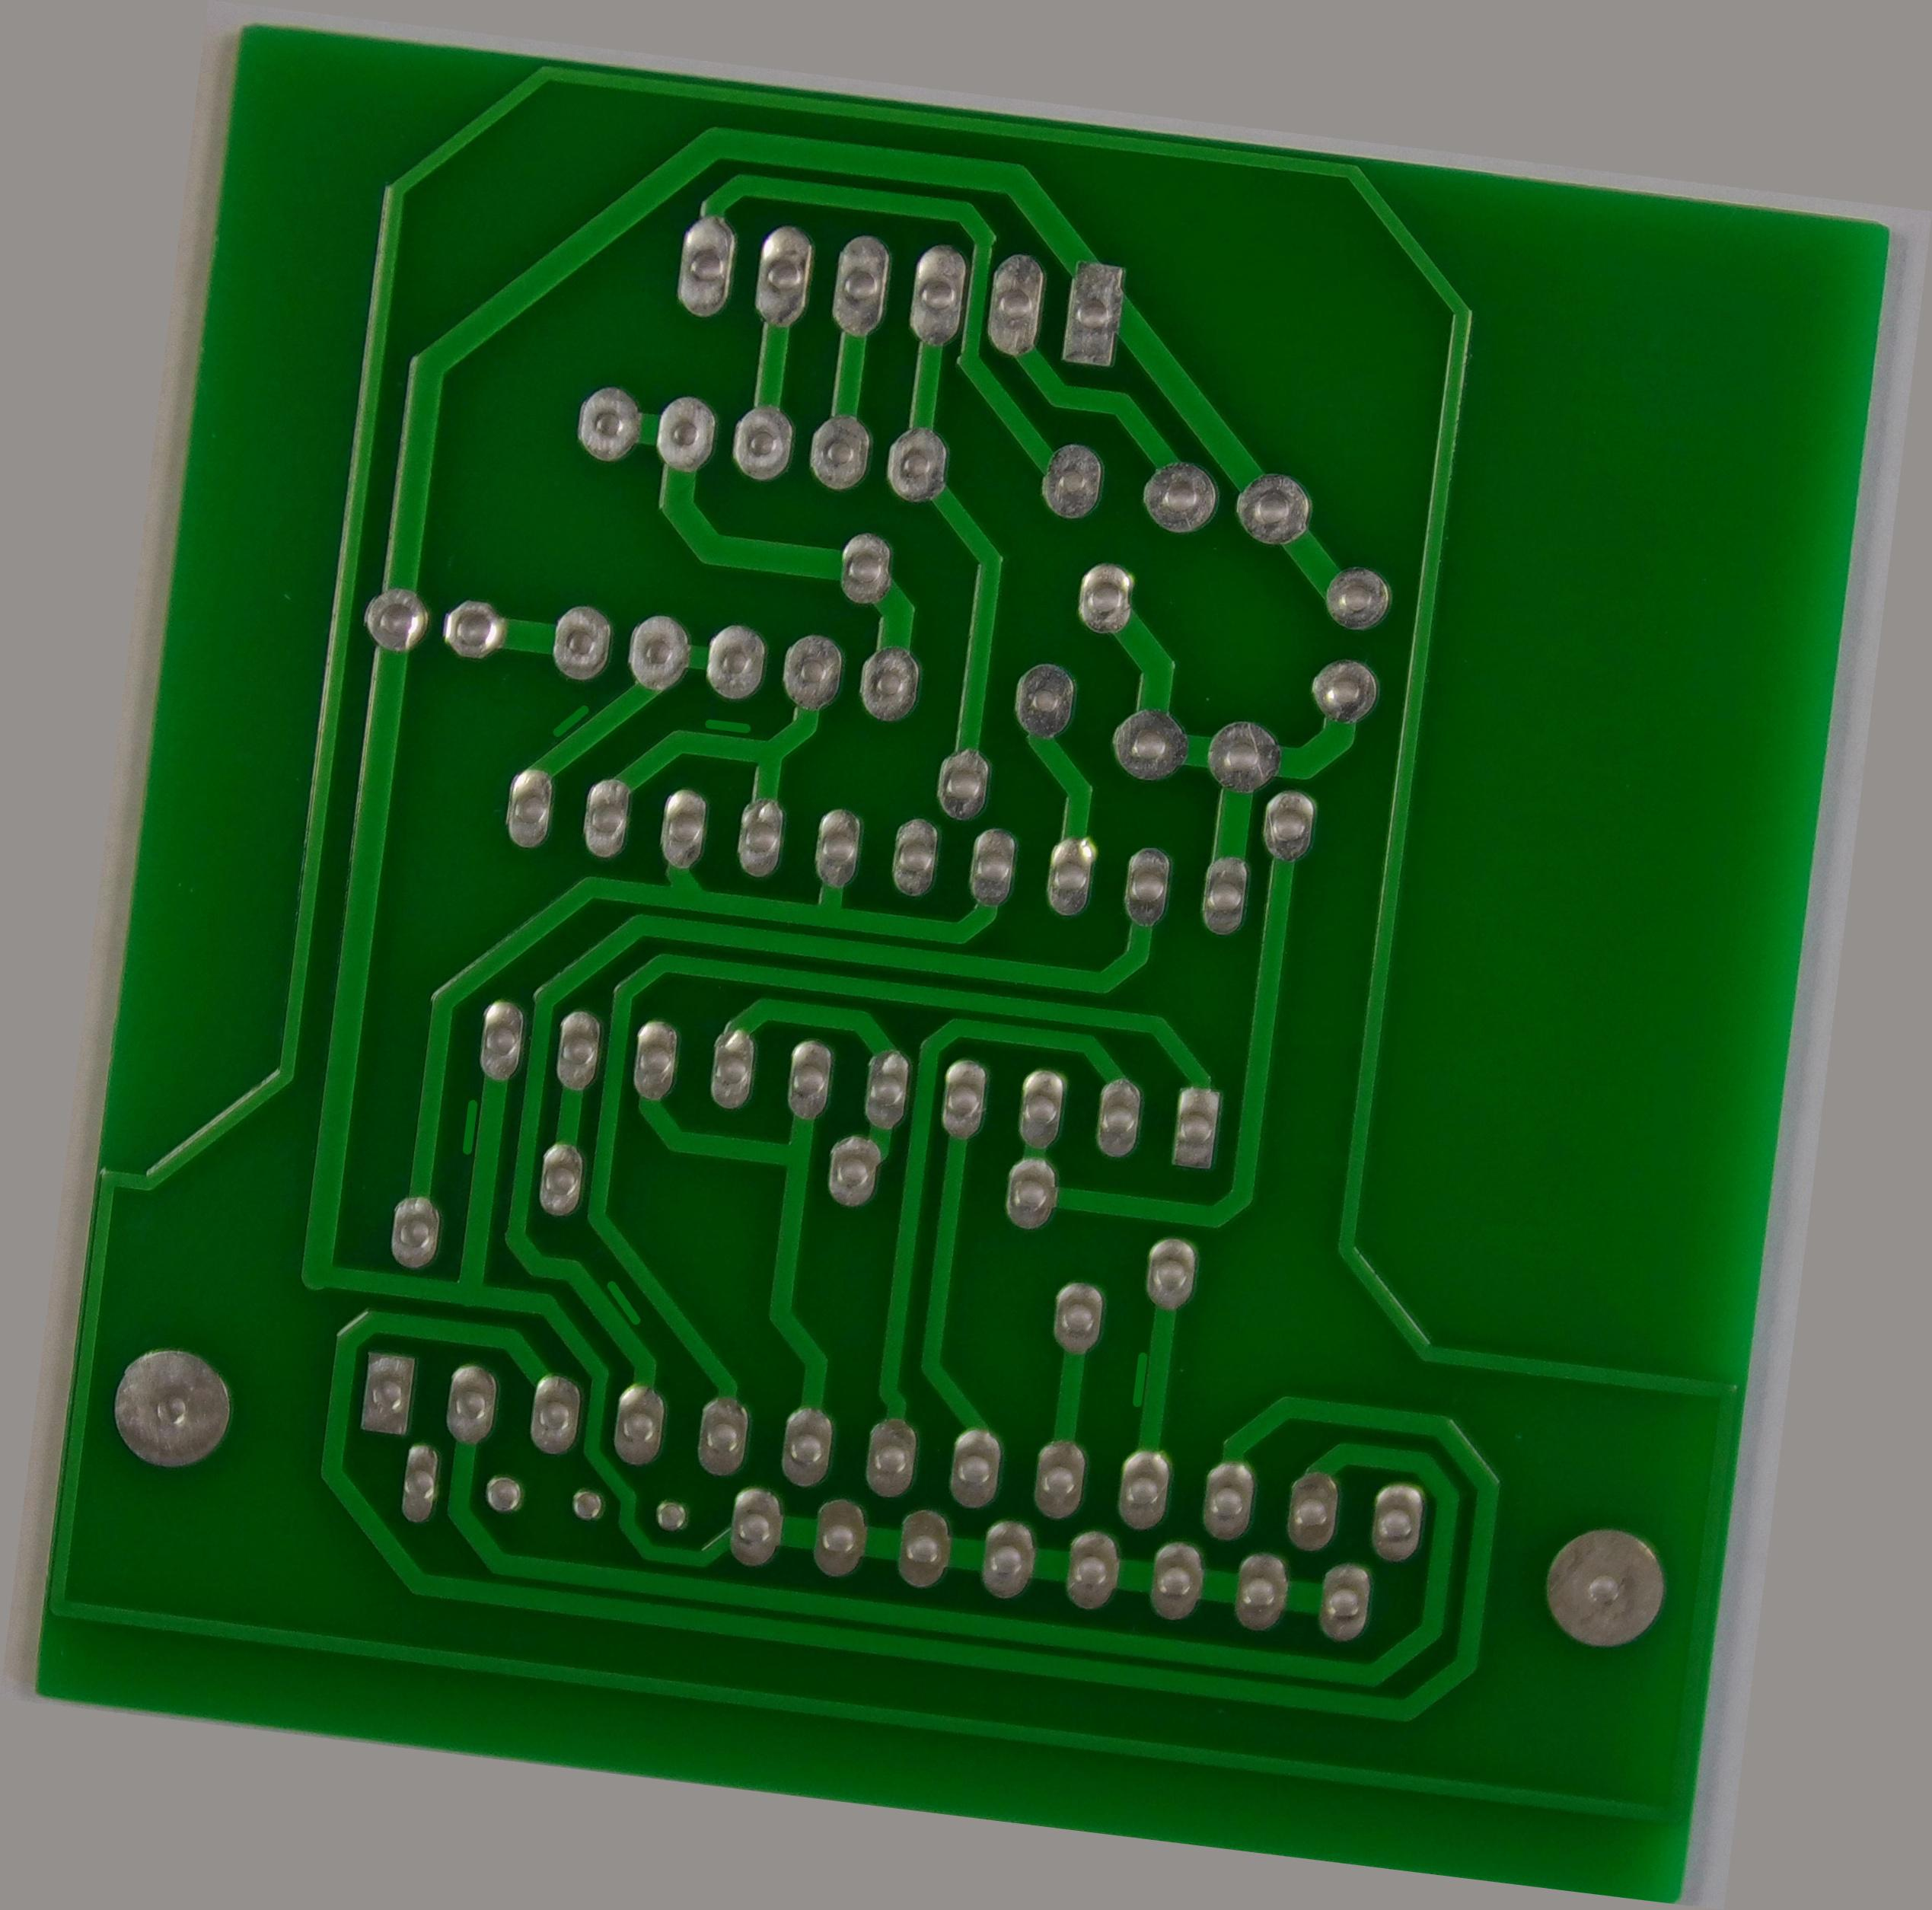spurious_copper: (589, 1268, 656, 1342), (1115, 1343, 1161, 1419), (449, 1090, 491, 1161), (537, 693, 596, 742), (696, 705, 759, 747)
